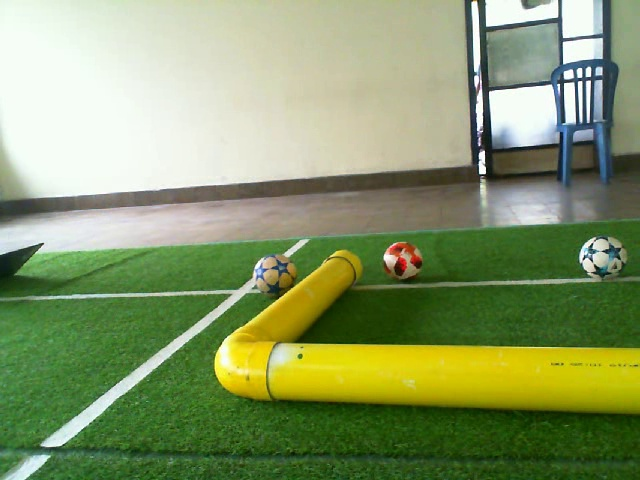ball: (577, 232, 628, 281), (252, 252, 299, 299), (382, 240, 424, 282)
